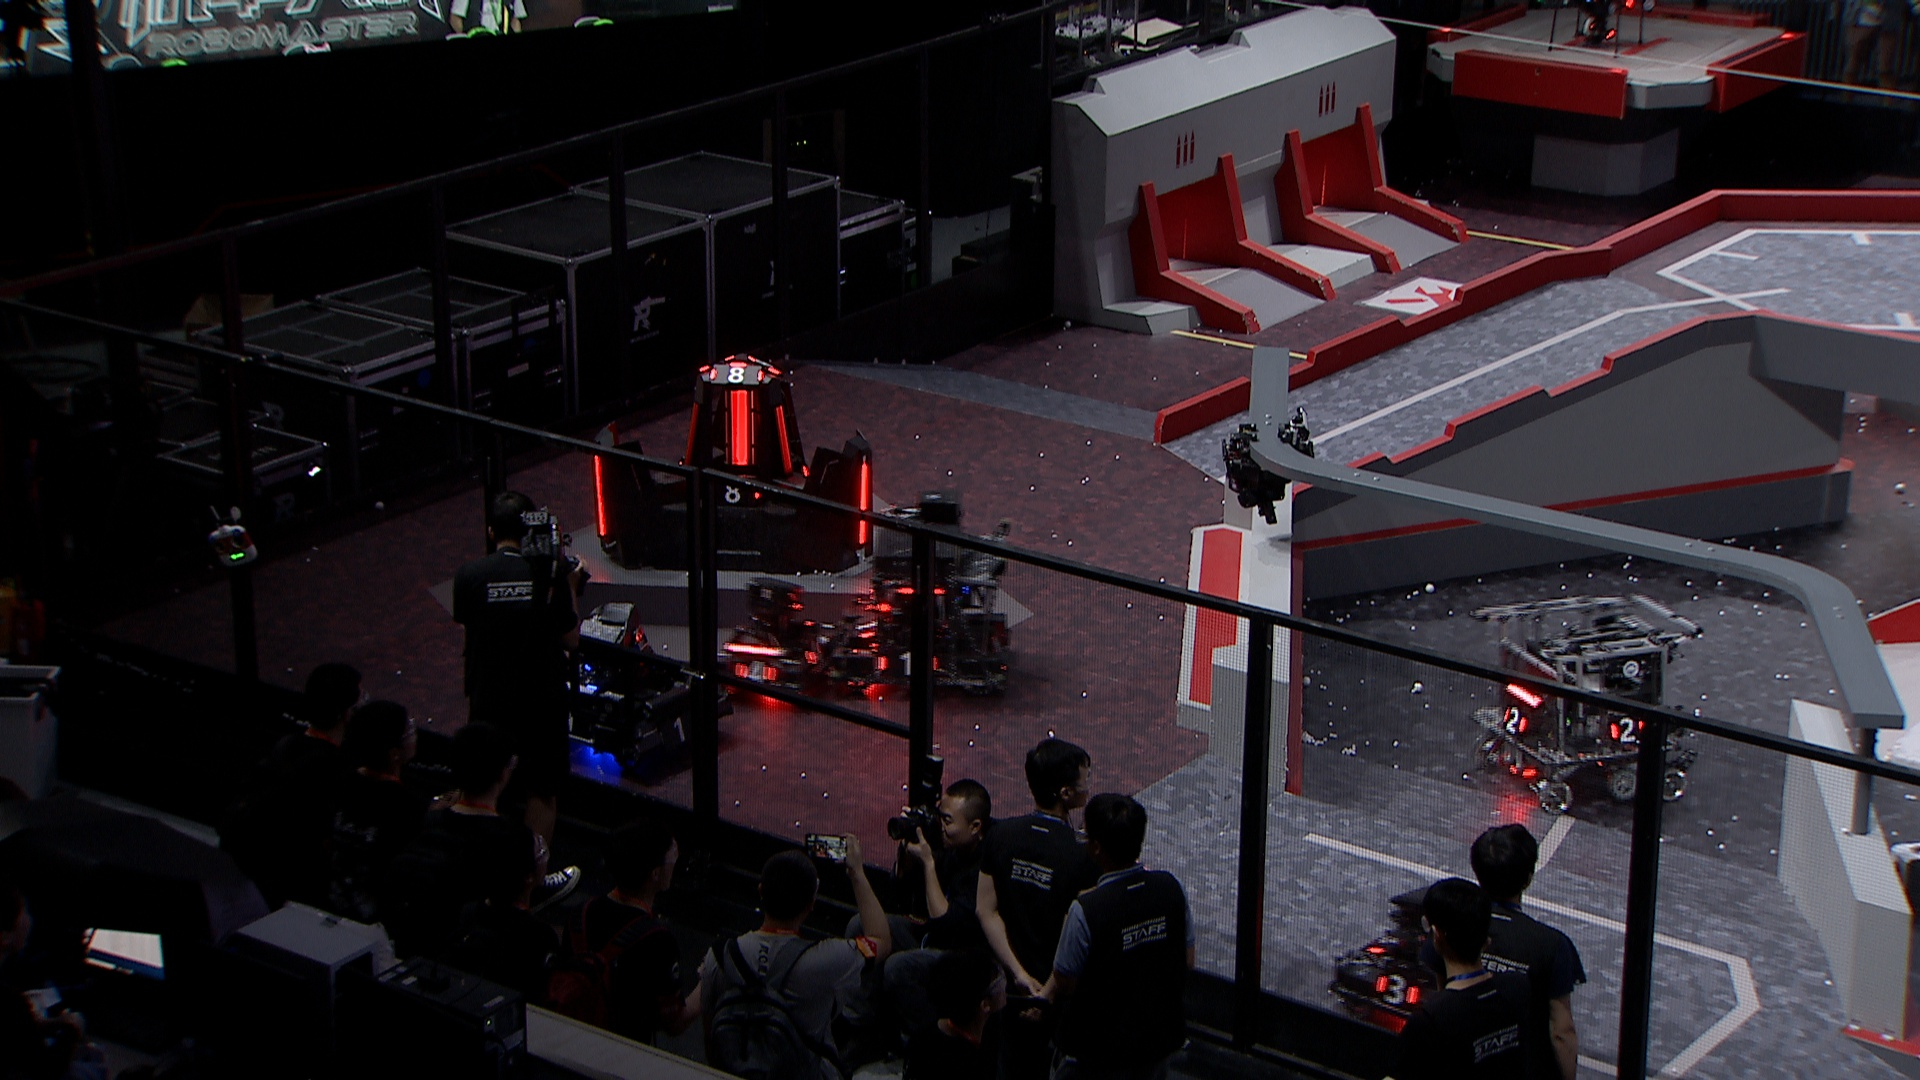armor: (724, 390, 760, 469), (876, 651, 942, 678), (591, 455, 611, 541), (775, 404, 798, 477), (679, 404, 704, 469), (1371, 973, 1419, 1007), (732, 659, 778, 688), (708, 363, 765, 385), (858, 462, 873, 547), (716, 481, 765, 505), (1499, 705, 1534, 735), (1611, 717, 1648, 744), (665, 713, 695, 744), (1366, 930, 1400, 956), (556, 708, 589, 735), (804, 641, 825, 669), (855, 618, 880, 641)
base: (579, 349, 880, 580)
car: (1466, 588, 1706, 815), (827, 495, 1022, 702), (514, 597, 732, 778), (1325, 884, 1472, 1031), (709, 575, 851, 702)
watcher: (1220, 410, 1316, 529)
